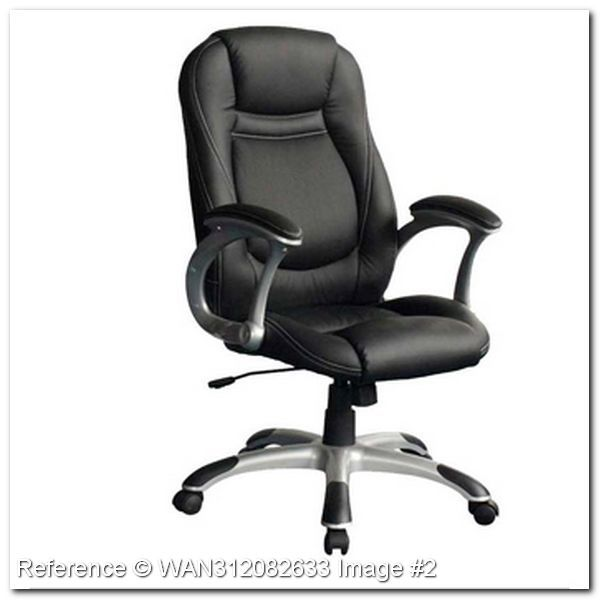chairs: (166, 22, 512, 560)
